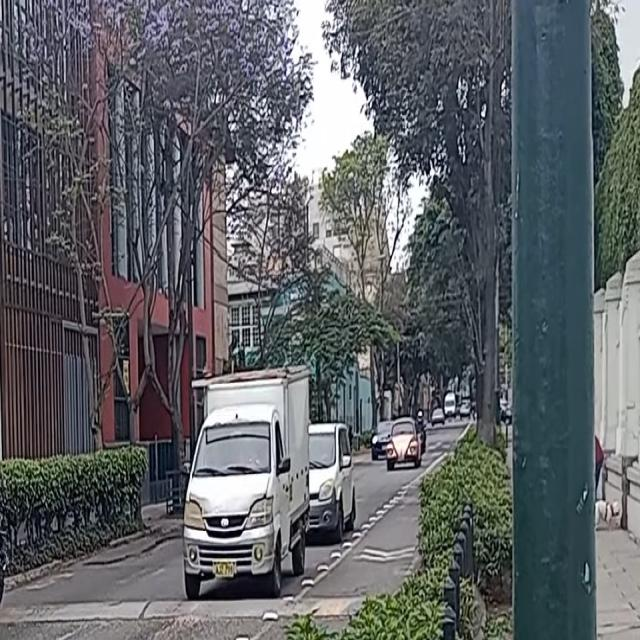car: (300, 420, 359, 537), (386, 416, 422, 464), (371, 420, 395, 458), (430, 408, 446, 428)
motorcycle: (0, 491, 8, 621)
truck: (183, 365, 310, 582)
